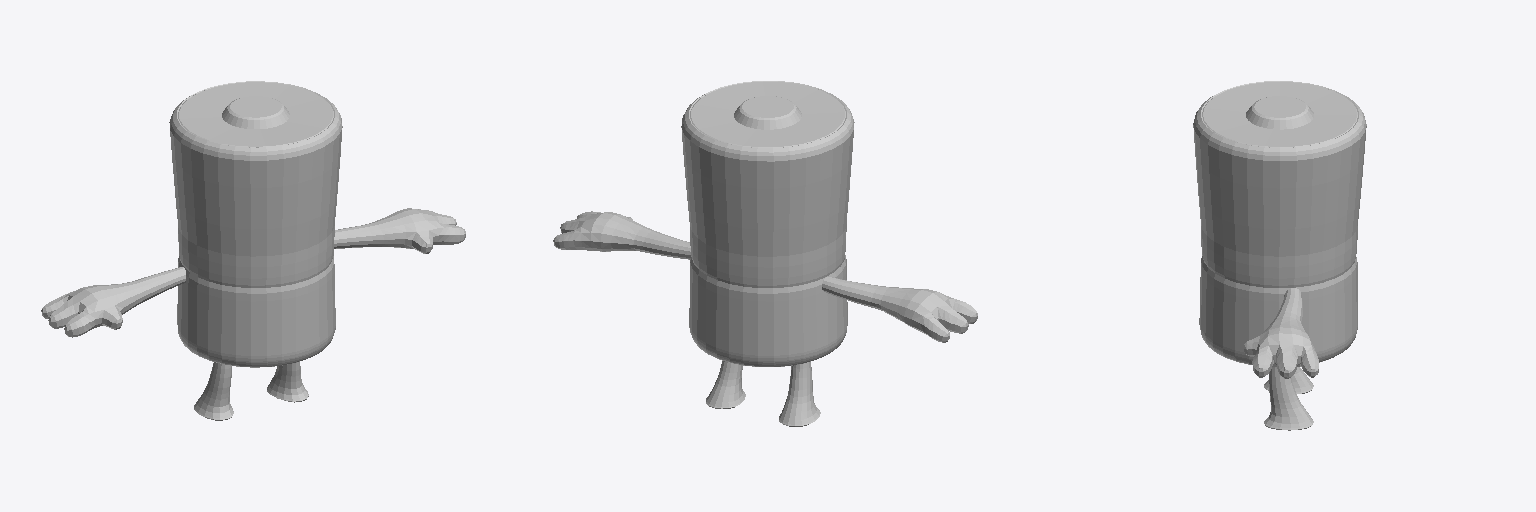
File: boi-tpose.obj
3 views of the same model, side by side, from view 1: azimuth 30°, elevation 25°; view 2: azimuth 150°, elevation 25°; view 3: azimuth 270°, elevation 25° (orthographic).
Visible parts, largest first — view 1: meshes_0; view 2: meshes_0; view 3: meshes_0.
Part boxes in pixels (x1,y1,x2,y2): meshes_0: (41, 81, 465, 420); meshes_0: (553, 81, 977, 426); meshes_0: (1193, 81, 1366, 430).
Size of the model in its own units: 178 by 125 by 65.74.